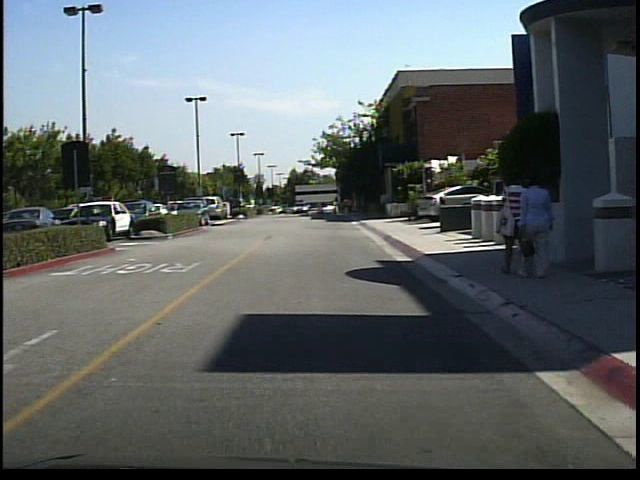person: (515, 169, 556, 279), (497, 165, 526, 280), (244, 192, 260, 220), (332, 195, 342, 220)
